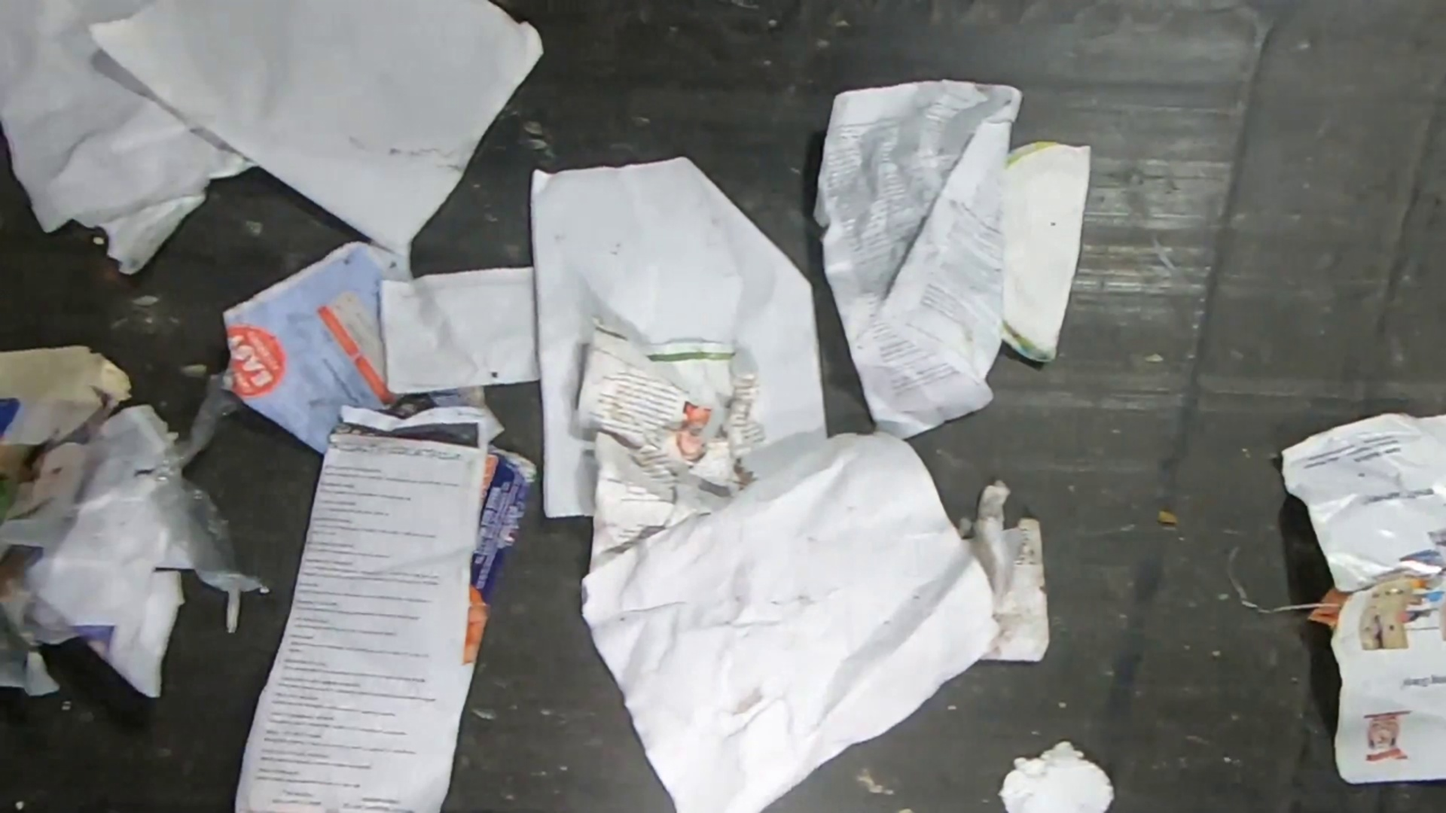plastic: (151, 361, 268, 594)
